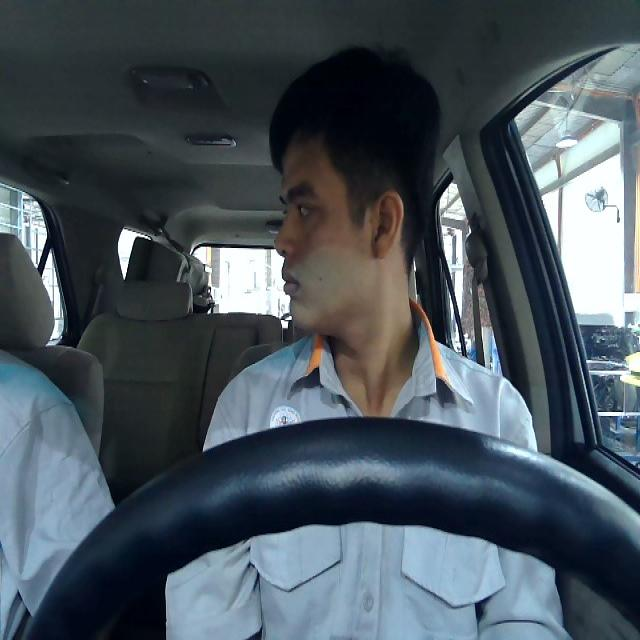seeing_left: (270, 123, 406, 334)
